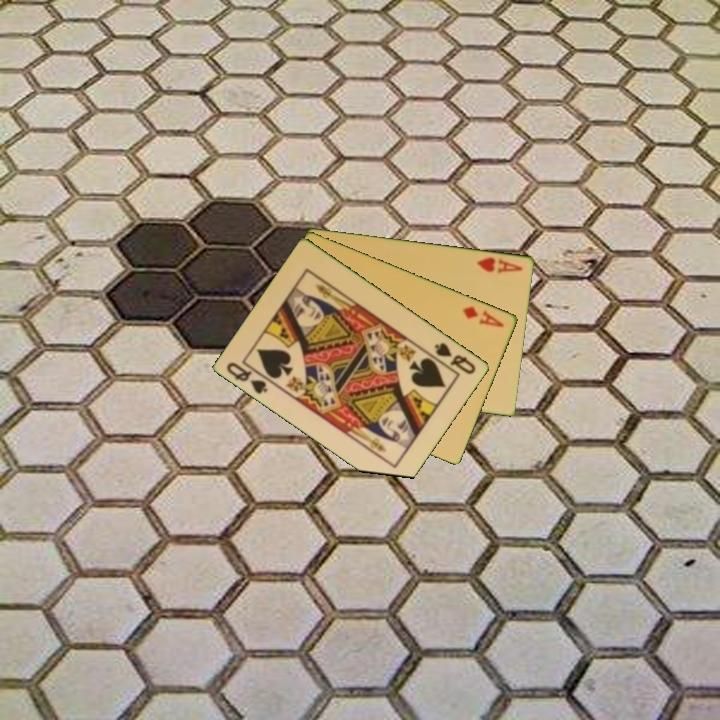Ad: (460, 302, 507, 330)
Ah: (473, 253, 526, 276)
Qs: (223, 358, 271, 397), (431, 339, 479, 377)
